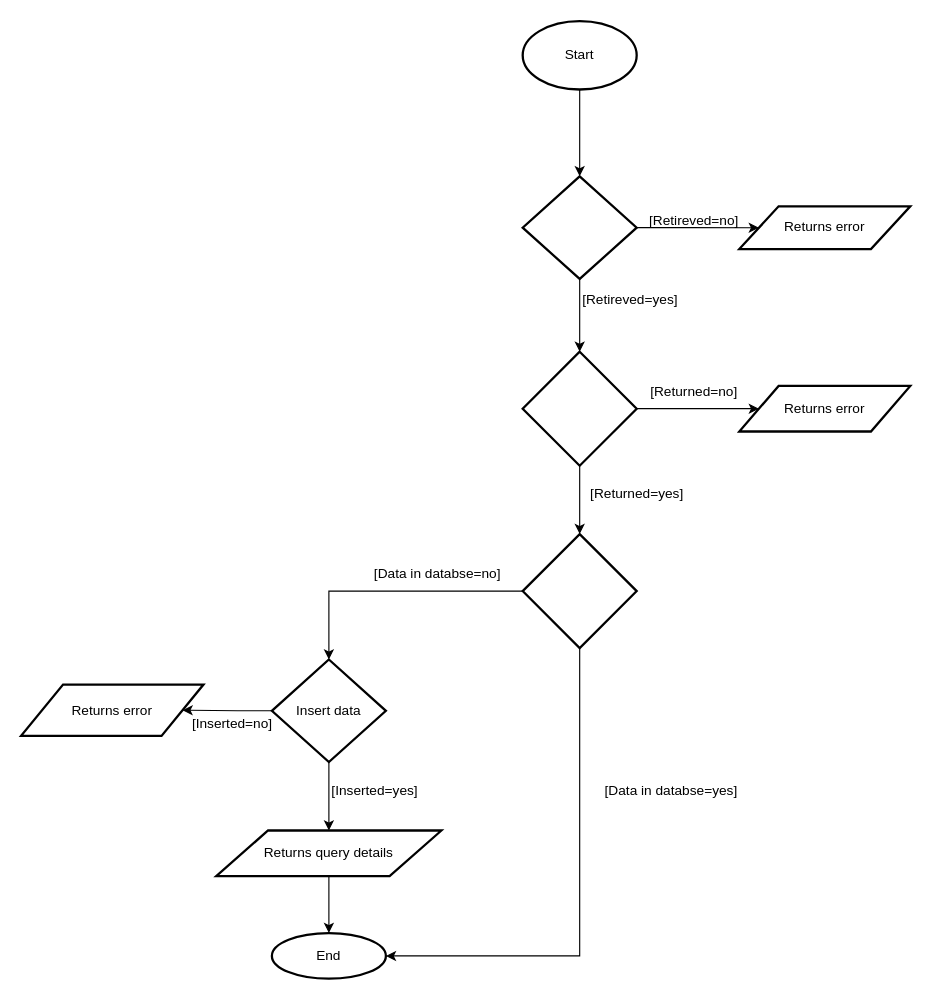
Image size: 930x999. Some labels were removed from this diagram. The box of each missing label's shape, as (x1, y1, x2, y2) in pixels:
Call API method: (521, 175, 637, 280)
Data in DB: (521, 532, 637, 649)
Get records from DB: (521, 350, 637, 466)
